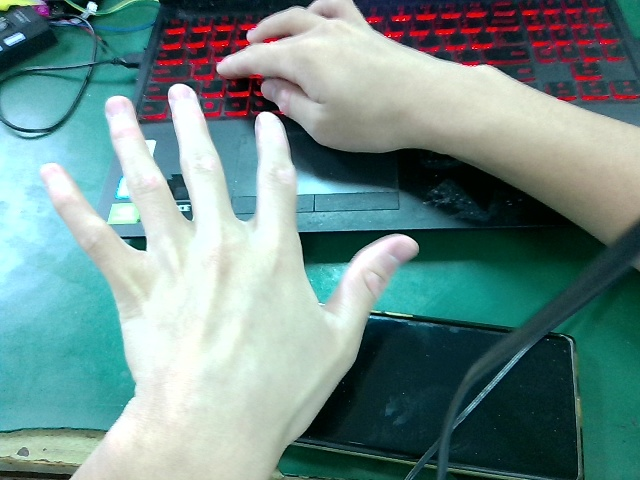paper: (29, 79, 409, 473)
